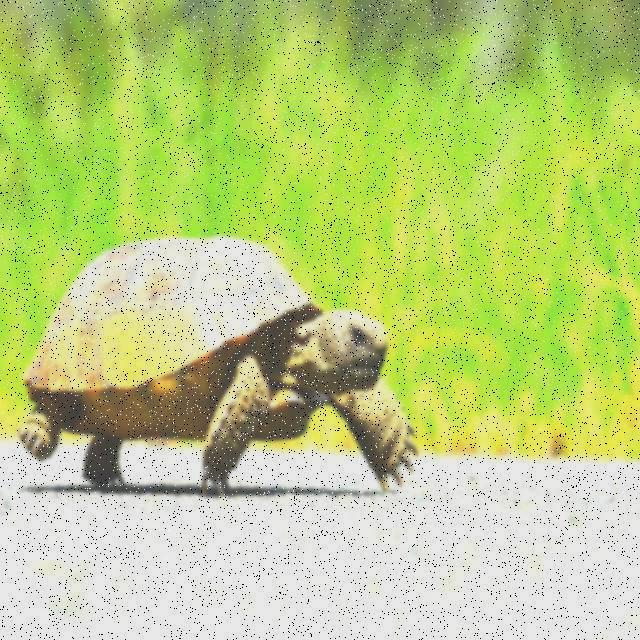tortoise: (13, 220, 421, 504)
